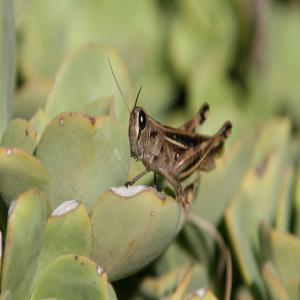locust: (114, 79, 237, 186)
